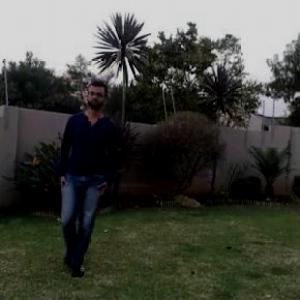follow: (48, 69, 121, 284)
